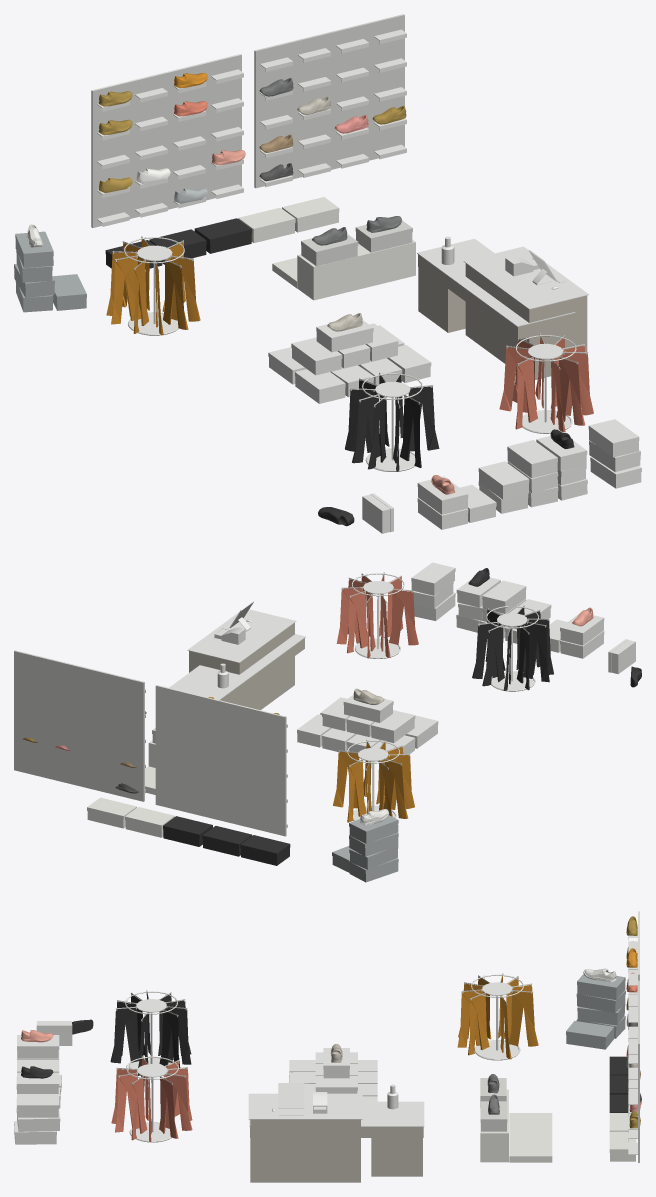
The picture shows the model from 3 angles, top to bottom: view 1: azimuth 30°, elevation 25°; view 2: azimuth 150°, elevation 25°; view 3: azimuth 270°, elevation 25°; orthographic projection. The views are drawn at different scales.
Visible parts, largest first — view 1: 1, 3, 2, 5, 4, 6; view 2: 1, 3, 4, 5, 2, 6; view 3: 3, 2, 4, 5, 1, 6.
Part boxes in pixels (<box>): 1: <box>91,14,406,269</box>; 3: <box>268,236,589,403</box>; 2: <box>106,216,415,335</box>; 5: <box>318,419,641,533</box>; 4: <box>345,333,593,471</box>; 6: <box>14,224,86,312</box>; 1: <box>14,650,290,865</box>; 3: <box>169,601,438,761</box>; 4: <box>336,572,553,691</box>; 5: <box>411,562,641,687</box>; 2: <box>145,728,414,822</box>; 6: <box>332,809,398,882</box>; 3: <box>248,1044,424,1182</box>; 2: <box>457,973,552,1162</box>; 4: <box>110,990,192,1142</box>; 5: <box>14,1019,93,1144</box>; 1: <box>609,911,641,1162</box>; 6: <box>566,968,625,1049</box>.
Bounding box in the file's own units: 509 × 212 × 774.
